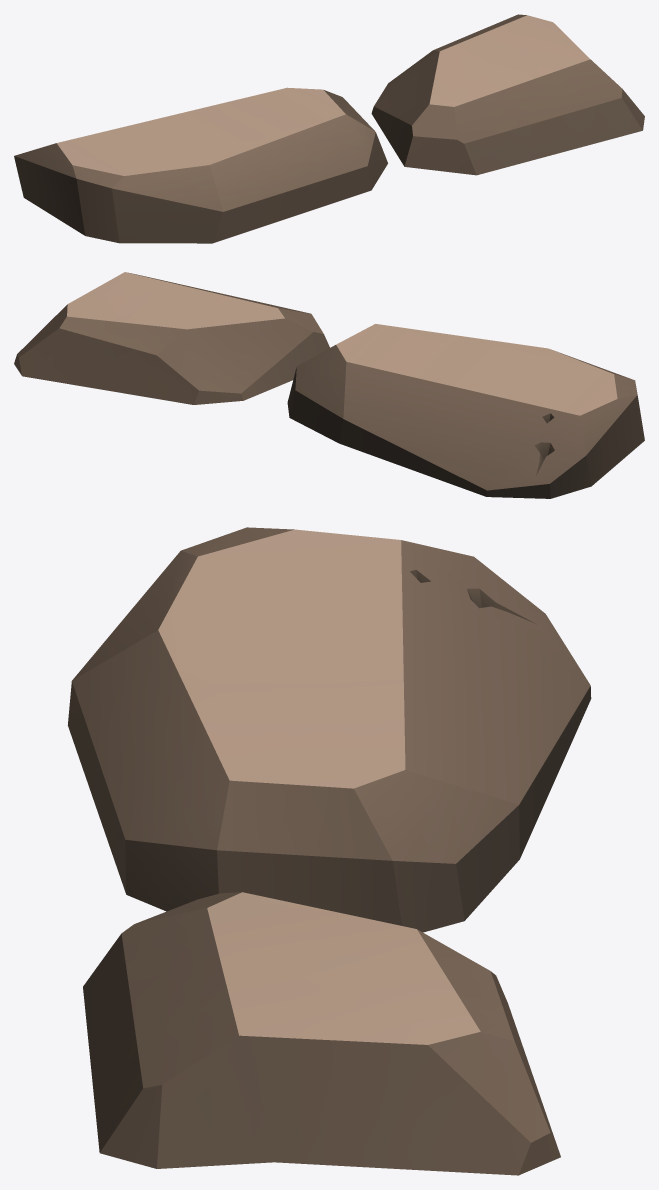
The model's file is Stone_Step_2C.fbx.
3 renders of one model, top to bottom at view 1: azimuth 30°, elevation 25°; view 2: azimuth 150°, elevation 25°; view 3: azimuth 270°, elevation 25°, orthographic. The views are drawn at different scales.
Parts seen in each view (by area): view 1: Stone_Step_2C; view 2: Stone_Step_2C; view 3: Stone_Step_2C.
Part boxes in pixels (<box>): Stone_Step_2C: <box>14,14,644,243</box>; Stone_Step_2C: <box>14,272,644,498</box>; Stone_Step_2C: <box>67,527,591,1175</box>.
Bounding box in the file's own units: 3.26 × 0.3189 × 1.32.
